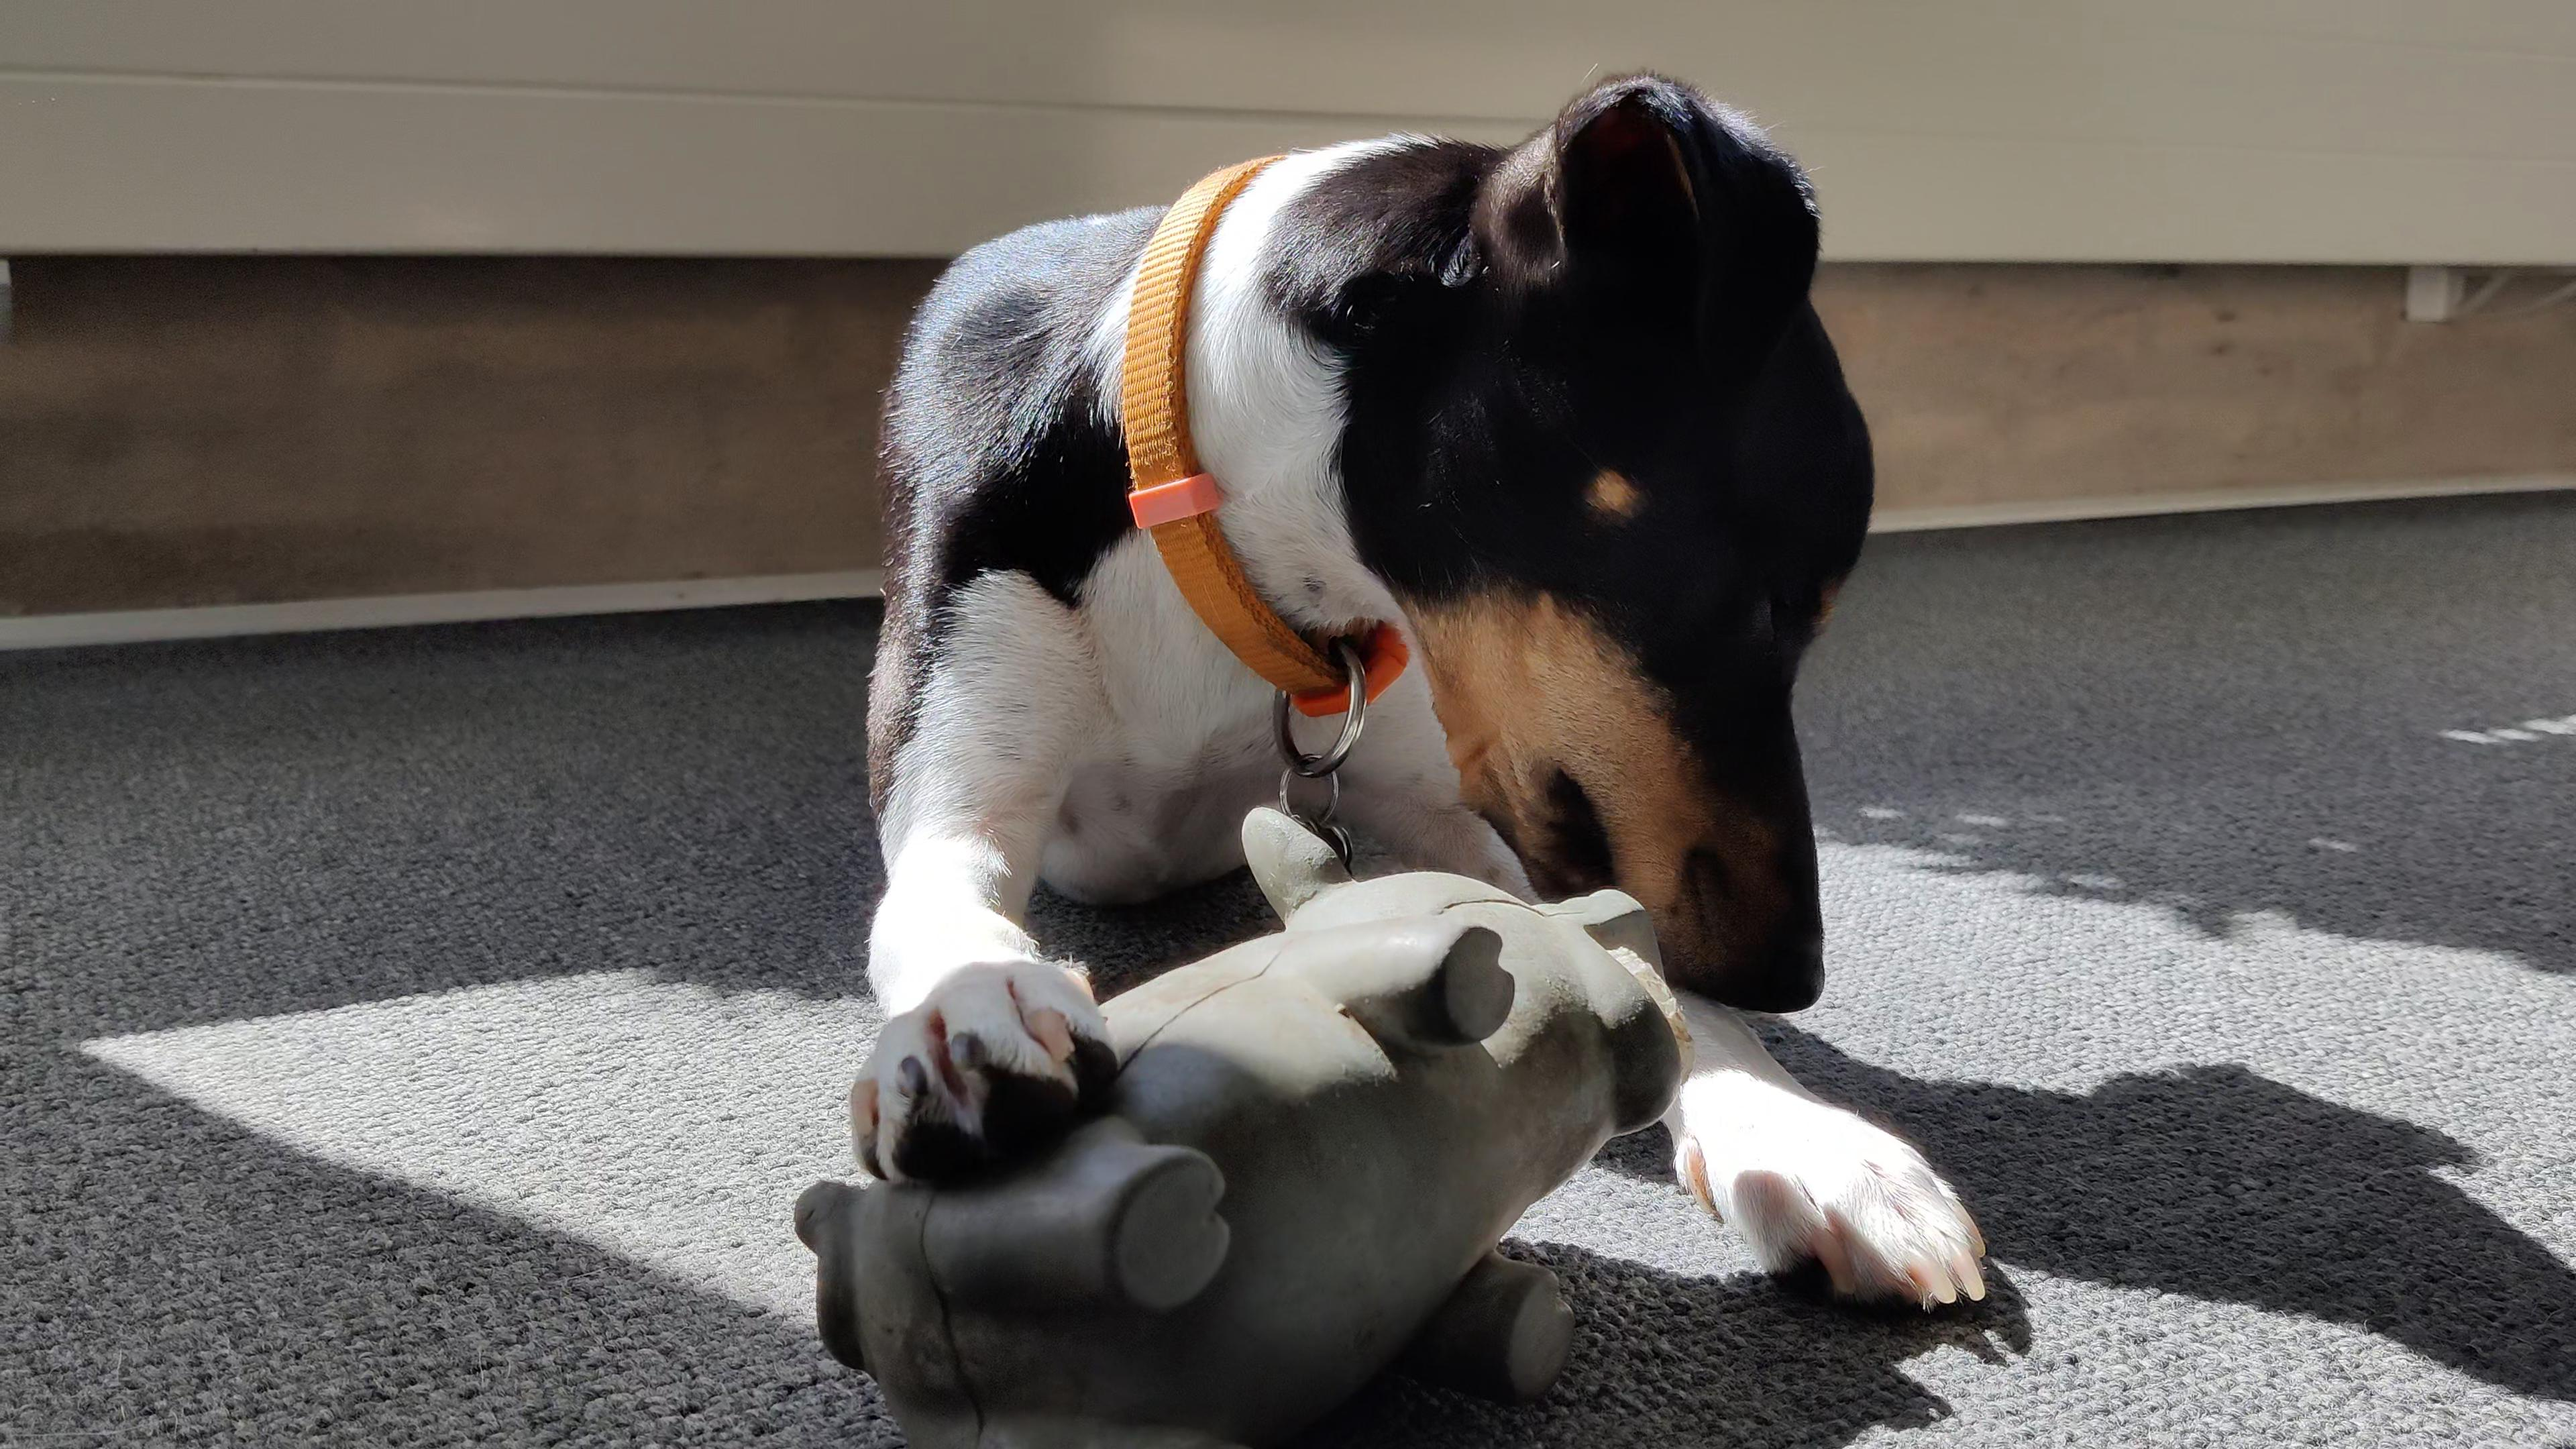Dog: (832, 55, 2006, 1323)
